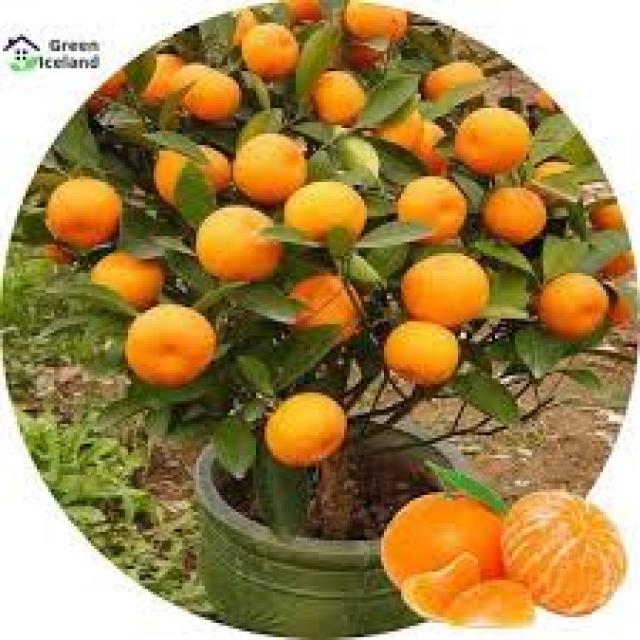orange: (269, 383, 371, 473), (125, 302, 225, 390)
